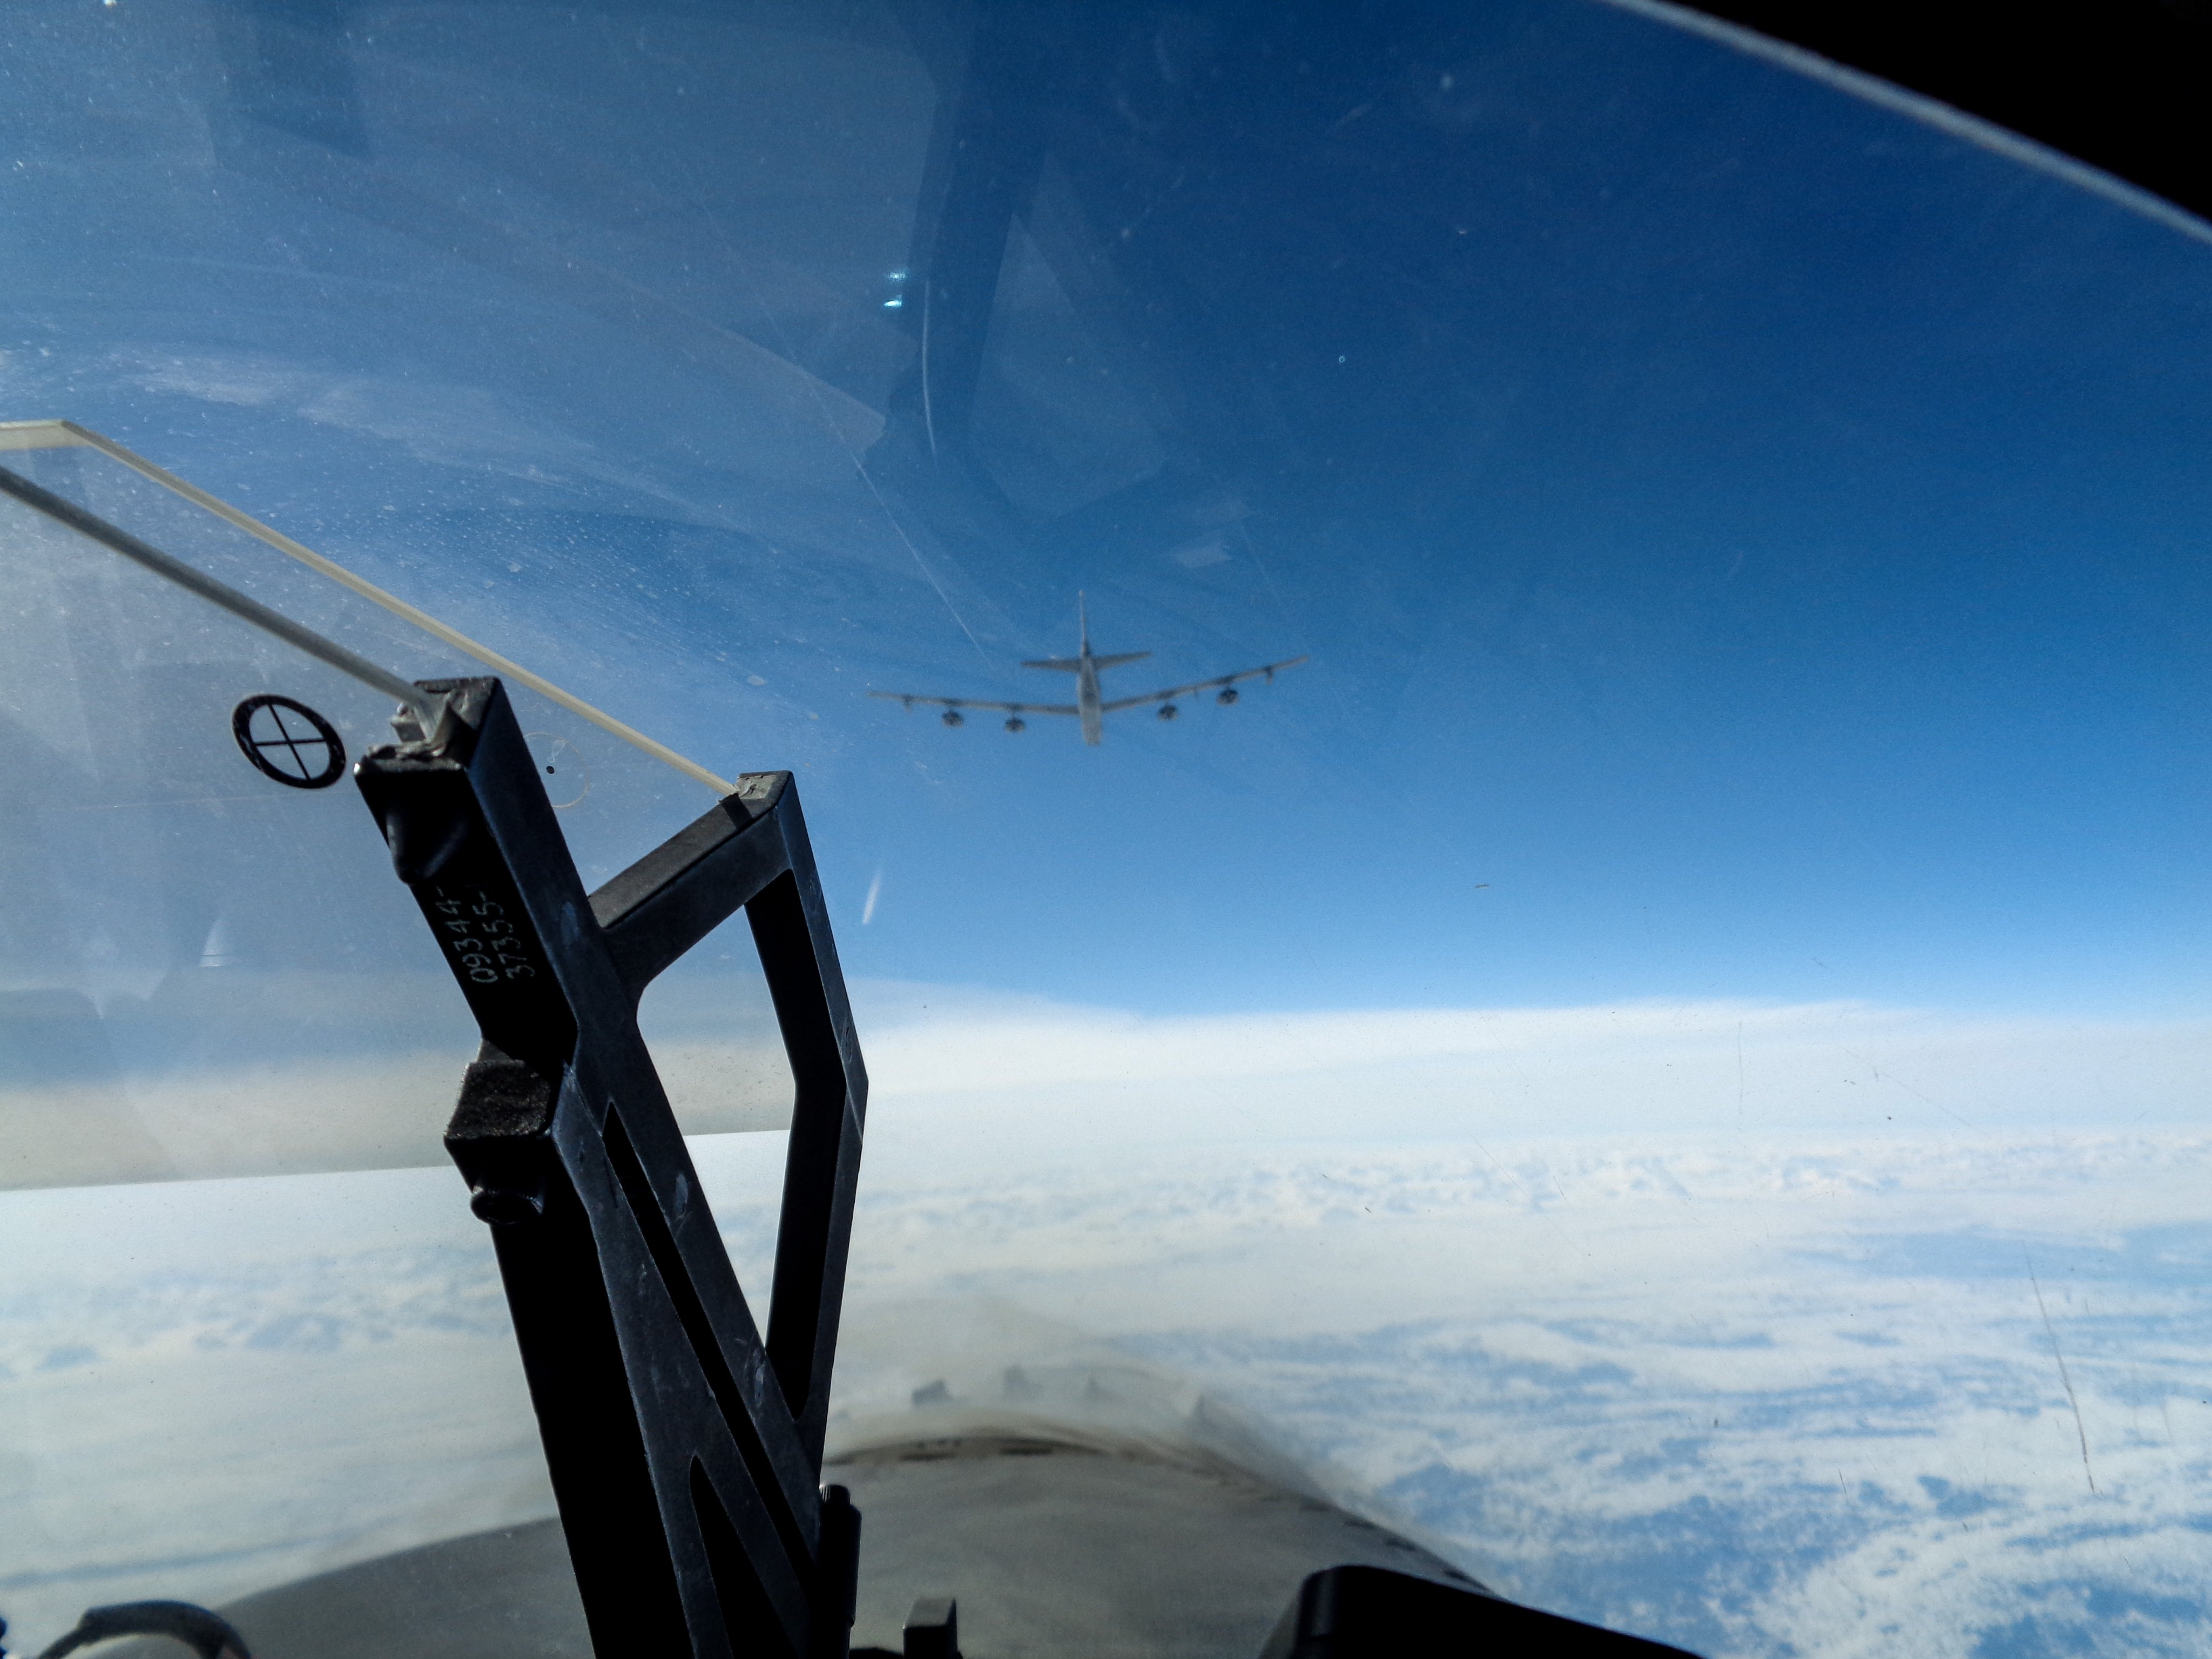B52: (866, 589, 1312, 748)
